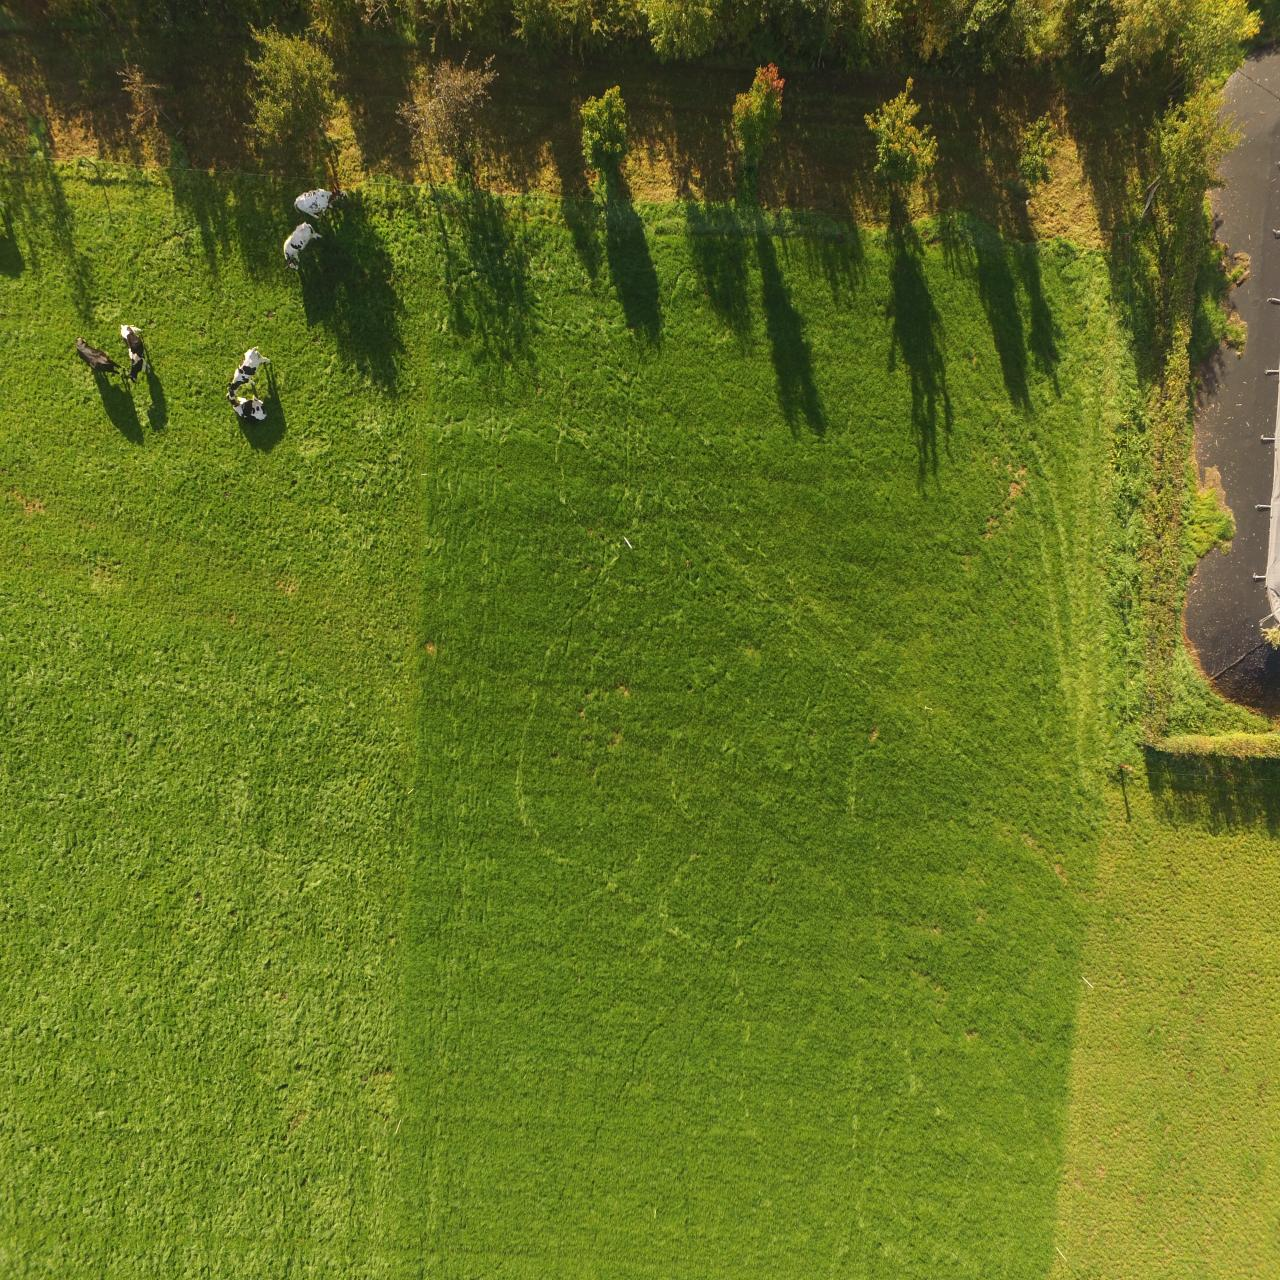cow: (280, 222, 332, 274), (76, 332, 123, 389), (118, 322, 161, 383), (292, 176, 355, 212), (223, 342, 273, 386), (229, 390, 277, 430)
